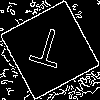T: (25, 25, 68, 78)
